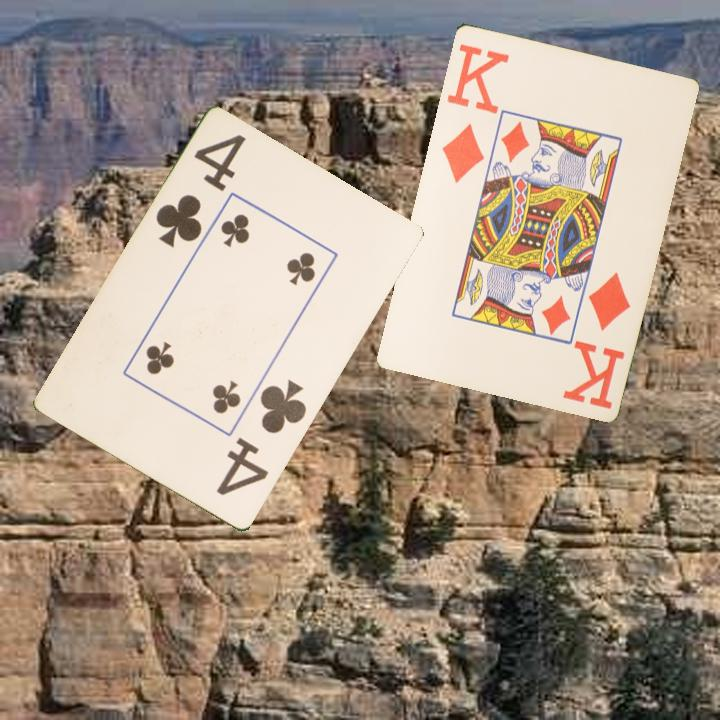4c: (212, 376, 310, 499), (152, 131, 249, 252)
Kd: (437, 39, 512, 185), (560, 268, 633, 412)
